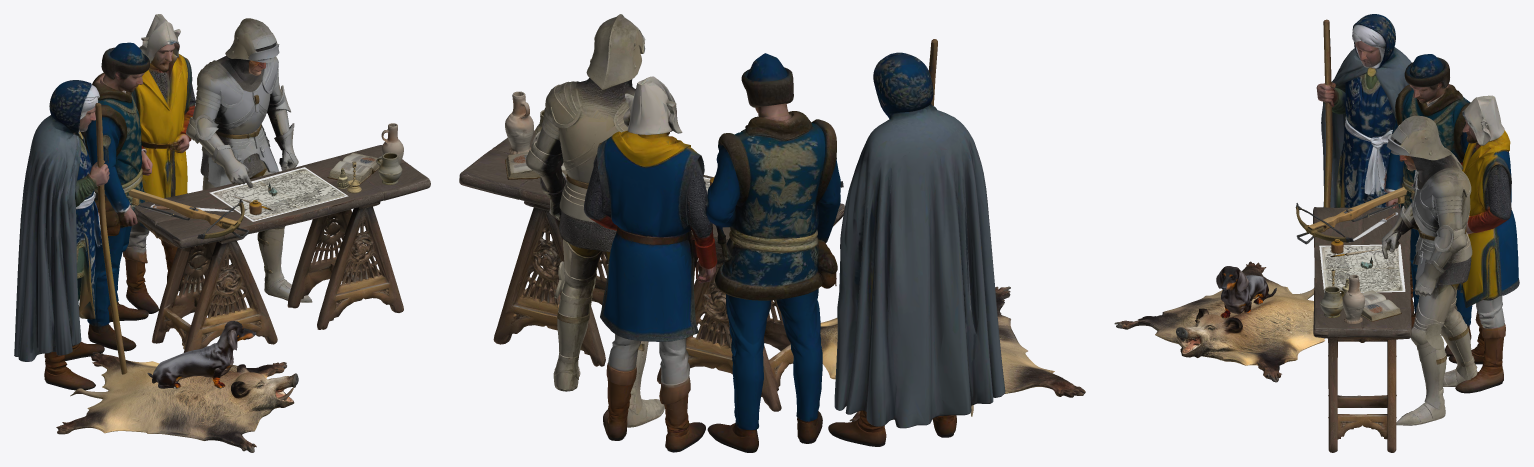
Rendered from project5.glb.
The picture shows the model from 3 angles, left to right: view 1: azimuth 30°, elevation 25°; view 2: azimuth 150°, elevation 25°; view 3: azimuth 270°, elevation 25°; orthographic projection. The views are drawn at different scales.
Parts seen in each view (by area): view 1: node_0.015, node_0, node_0.001, node_0.013, 15th century europe map, node_0.014, node_0.003, node_0.007, node_0.005, node_0.006; view 2: node_0.015, node_0.001, node_0, node_0.013, node_0.006, node_0.007; view 3: node_0.015, node_0.001, node_0.013, node_0, 15th century europe map, node_0.014, node_0.003, node_0.007, node_0.006, node_0.005.
Boxes of the visible parts, x1=… form: node_0.015: x1=14, y1=14, x2=195, y2=390; node_0: x1=134, y1=145, x2=430, y2=352; node_0.001: x1=182, y1=18, x2=312, y2=302; node_0.013: x1=56, y1=352, x2=298, y2=452; 15th century europe map: x1=209, y1=167, x2=348, y2=221; node_0.014: x1=147, y1=321, x2=256, y2=388; node_0.003: x1=128, y1=189, x2=248, y2=239; node_0.007: x1=327, y1=152, x2=382, y2=184; node_0.005: x1=376, y1=152, x2=402, y2=184; node_0.006: x1=381, y1=123, x2=403, y2=164; node_0.015: x1=584, y1=39, x2=1005, y2=452; node_0.001: x1=525, y1=14, x2=668, y2=427; node_0: x1=459, y1=130, x2=844, y2=411; node_0.013: x1=820, y1=286, x2=1085, y2=421; node_0.006: x1=505, y1=91, x2=533, y2=154; node_0.007: x1=505, y1=152, x2=566, y2=179; node_0.015: x1=1316, y1=14, x2=1519, y2=393; node_0.001: x1=1381, y1=115, x2=1477, y2=425; node_0.013: x1=1114, y1=261, x2=1324, y2=382; node_0: x1=1313, y1=207, x2=1411, y2=452; 15th century europe map: x1=1319, y1=244, x2=1405, y2=292; node_0.014: x1=1216, y1=266, x2=1276, y2=318; node_0.003: x1=1295, y1=187, x2=1407, y2=244; node_0.007: x1=1361, y1=290, x2=1401, y2=321; node_0.006: x1=1342, y1=274, x2=1364, y2=323; node_0.005: x1=1320, y1=286, x2=1344, y2=317.
Size of the model in its own units: 2.61 by 1.78 by 2.27.
Materials: 16 (16 with a texture image).
